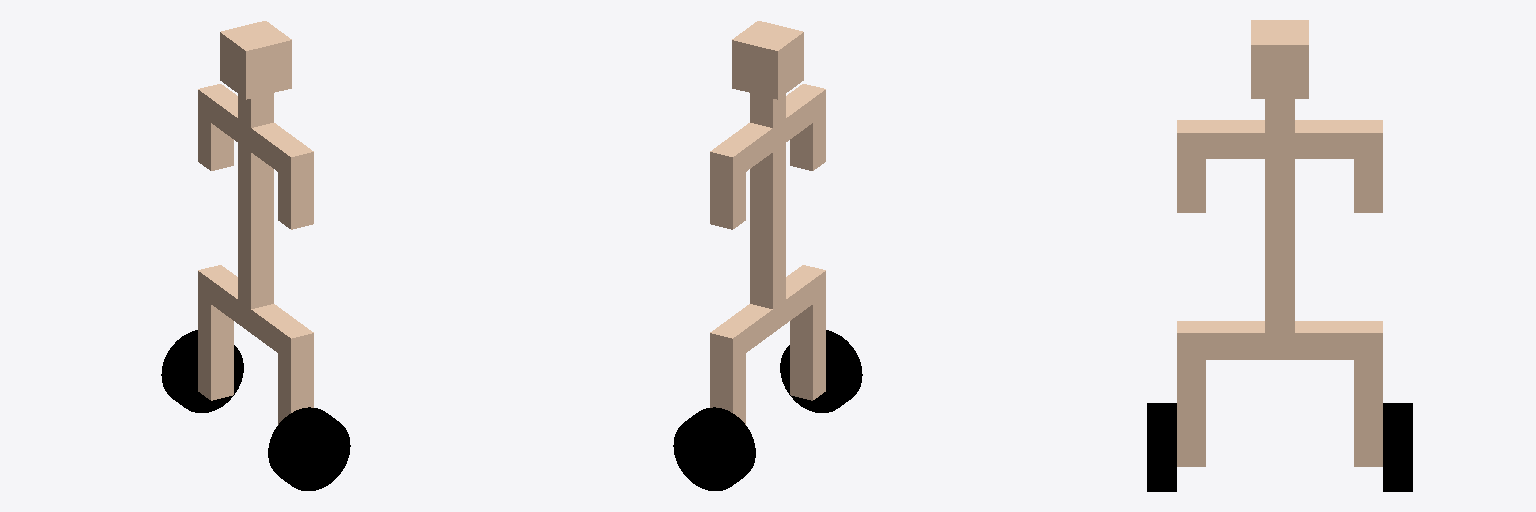
robot.urdf — myfirst:
<?xml version="1.0"?>
<robot name="myfirst">
  <material name="skin">
    <color rgba="1 0.87 0.76 1" />
  </material>

  <material name="black">
    <color rgba="0 0 0 1" />
  </material>

  <link name="base_link">
    <visual>
      <geometry>
        <box size="0.1 0.1 1" />
      </geometry>
      <material name="skin" />
    </visual>
  </link>

  <link name="head">
    <visual>
      <geometry>
        <box size="0.2 0.2 0.2" />
      </geometry>
      <material name="skin" />
    </visual>
  </link>
  <joint name="base_link_to_head" type="fixed">
    <parent link="base_link" />
    <child link="head" />
    <origin xyz="0 0 0.6" />
  </joint>

  <link name="shoulders" />
  <joint name="base_link_to_shoulders" type="fixed">
    <parent link="base_link" />
    <child link="shoulders" />
    <origin xyz="0 0 0.3" />
  </joint>

  <link name="right_shoulder">
    <visual>
      <geometry>
        <box size="0.1 0.3 0.1" />
      </geometry>
      <material name="skin" />
    </visual>
  </link>
  <joint name="shoulders_to_right_shoulder" type="fixed">
    <parent link="shoulders" />
    <child link="right_shoulder" />
    <origin xyz="0 0.2 0" />
  </joint>

  <link name="right_arm">
    <visual>
      <geometry>
        <box size="0.1 0.1 0.2" />
      </geometry>
      <material name="skin" />
    </visual>
  </link>
  <joint name="right_shoulder_to_right_arm" type="fixed">
    <parent link="right_shoulder" />
    <child link="right_arm" />
    <origin xyz="0 0.1 -0.15" />
  </joint>

  <link name="left_shoulder">
    <visual>
      <geometry>
        <box size="0.1 0.3 0.1" />
      </geometry>
      <material name="skin" />
    </visual>
  </link>
  <joint name="shoulders_to_left_shoulder" type="fixed">
    <parent link="shoulders" />
    <child link="left_shoulder" />
    <origin xyz="0 -0.2 0" />
  </joint>

  <link name="left_arm">
    <visual>
      <geometry>
        <box size="0.1 0.1 0.2" />
      </geometry>
      <material name="skin" />
    </visual>
  </link>
  <joint name="left_shoulder_to_left_arm" type="fixed">
    <parent link="left_shoulder" />
    <child link="left_arm" />
    <origin xyz="0 -0.1 -0.15" />
  </joint>

  <link name="butt" />
  <joint name="base_link_to_butt" type="fixed">
    <parent link="base_link" />
    <child link="butt" />
    <origin xyz="0 0 -0.45" />
  </joint>

  <link name="right_thigh">
    <visual>
      <geometry>
        <box size="0.1 0.3 0.1" />
      </geometry>
      <material name="skin" />
    </visual>
  </link>
  <joint name="butt_to_right_thigh" type="fixed">
    <parent link="butt" />
    <child link="right_thigh" />
    <origin xyz="0 0.2 0" />
  </joint>

  <link name="right_shin">
    <visual>
      <geometry>
        <box size="0.1 0.1 0.4" />
      </geometry>
      <material name="skin" />
    </visual>
  </link>
  <joint name="right_thigh_to_right_shin" type="fixed">
    <parent link="right_thigh" />
    <child link="right_shin" />
    <origin xyz="0 0.1 -0.25" />
  </joint>

  <link name="right_wheel">
    <visual>
      <geometry>
        <cylinder length="0.1" radius="0.15" />
      </geometry>
      <material name="black" />
    </visual>
  </link>
  <joint name="right_shin_to_right_wheel" type="fixed">
    <parent link="right_shin" />
    <child link="right_wheel" />
    <origin rpy="1.570796327 0 0" xyz="0 0.1 -0.15" />
  </joint>

  <link name="left_thigh">
    <visual>
      <geometry>
        <box size="0.1 0.3 0.1" />
      </geometry>
      <material name="skin" />
    </visual>
  </link>
  <joint name="butt_to_left_thigh" type="fixed">
    <parent link="butt" />
    <child link="left_thigh" />
    <origin xyz="0 -0.2 0" />
  </joint>

  <link name="left_shin">
    <visual>
      <geometry>
        <box size="0.1 0.1 0.4" />
      </geometry>
      <material name="skin" />
    </visual>
  </link>
  <joint name="left_thigh_to_left_shin" type="fixed">
    <parent link="left_thigh" />
    <child link="left_shin" />
    <origin xyz="0 -0.1 -0.25" />
  </joint>

  <link name="left_wheel">
    <visual>
      <geometry>
        <cylinder length="0.1" radius="0.15" />
      </geometry>
      <material name="black" />
    </visual>
  </link>
  <joint name="left_shin_to_left_wheel" type="fixed">
    <parent link="left_shin" />
    <child link="left_wheel" />
    <origin rpy="1.570796327 0 0" xyz="0 -0.1 -0.15" />
  </joint>
</robot>

--- Render facts (derived) ---
Views: 3 orthographic renders of the robot side by side, from view 1: azimuth 30°, elevation 25°; view 2: azimuth 150°, elevation 25°; view 3: azimuth 270°, elevation 25°.
Robot: myfirst — 14 links, 13 joints (13 fixed); root link base_link; default pose: all joints at 0.
Visible links, largest first — view 1: base_link, left_wheel, head, right_shin, right_wheel, left_thigh, left_shoulder, left_shin, left_arm, right_thigh, right_shoulder, right_arm; view 2: base_link, right_wheel, head, left_shin, left_wheel, right_thigh, right_shoulder, right_shin, right_arm, left_thigh, left_shoulder, left_arm; view 3: base_link, head, right_shoulder, left_shoulder, right_thigh, left_thigh, right_shin, left_shin, right_wheel, left_wheel, right_arm, left_arm.
Boxes of the visible links, <box> form: base_link: <box>238,93,273,332</box>; left_wheel: <box>268,407,350,490</box>; head: <box>220,21,291,99</box>; right_shin: <box>198,295,233,400</box>; right_wheel: <box>161,330,243,412</box>; left_thigh: <box>251,304,313,362</box>; left_shoulder: <box>251,123,313,180</box>; left_shin: <box>278,354,313,424</box>; left_arm: <box>278,172,313,229</box>; right_thigh: <box>198,265,237,323</box>; right_shoulder: <box>198,84,237,141</box>; right_arm: <box>198,114,233,170</box>; base_link: <box>750,93,785,332</box>; right_wheel: <box>673,407,755,490</box>; head: <box>732,21,803,99</box>; left_shin: <box>790,295,825,400</box>; left_wheel: <box>780,330,862,412</box>; right_thigh: <box>710,304,772,362</box>; right_shoulder: <box>710,123,772,180</box>; right_shin: <box>710,354,745,424</box>; right_arm: <box>710,172,745,229</box>; left_thigh: <box>786,265,825,323</box>; left_shoulder: <box>786,84,825,141</box>; left_arm: <box>790,114,825,170</box>; base_link: <box>1265,99,1294,359</box>; head: <box>1251,20,1308,98</box>; right_shoulder: <box>1295,120,1382,158</box>; left_shoulder: <box>1177,120,1264,158</box>; right_thigh: <box>1295,321,1382,359</box>; left_thigh: <box>1177,321,1264,359</box>; right_shin: <box>1354,360,1382,466</box>; left_shin: <box>1177,360,1205,466</box>; right_wheel: <box>1383,403,1412,491</box>; left_wheel: <box>1147,403,1176,491</box>; right_arm: <box>1354,159,1382,212</box>; left_arm: <box>1177,159,1205,212</box>.
Size in the robot's own frame: 0.3 by 0.9 by 1.7 metres.
Geometry: primitives only (box / cylinder / sphere), no mesh files.
